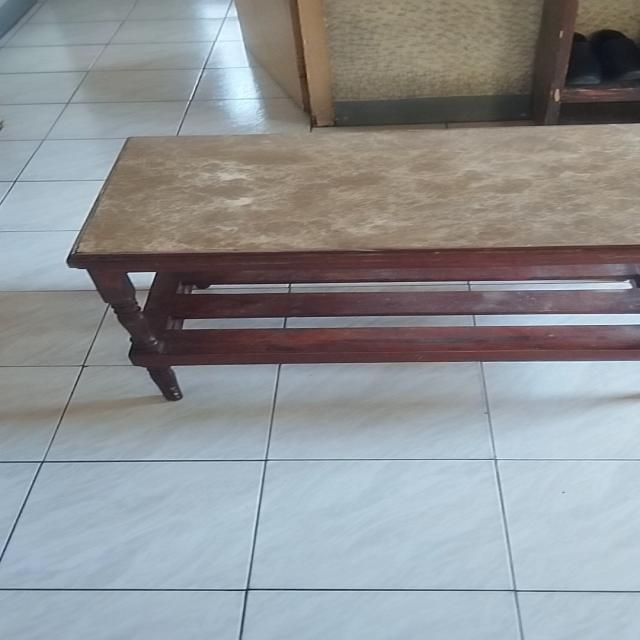table: (57, 122, 640, 407)
